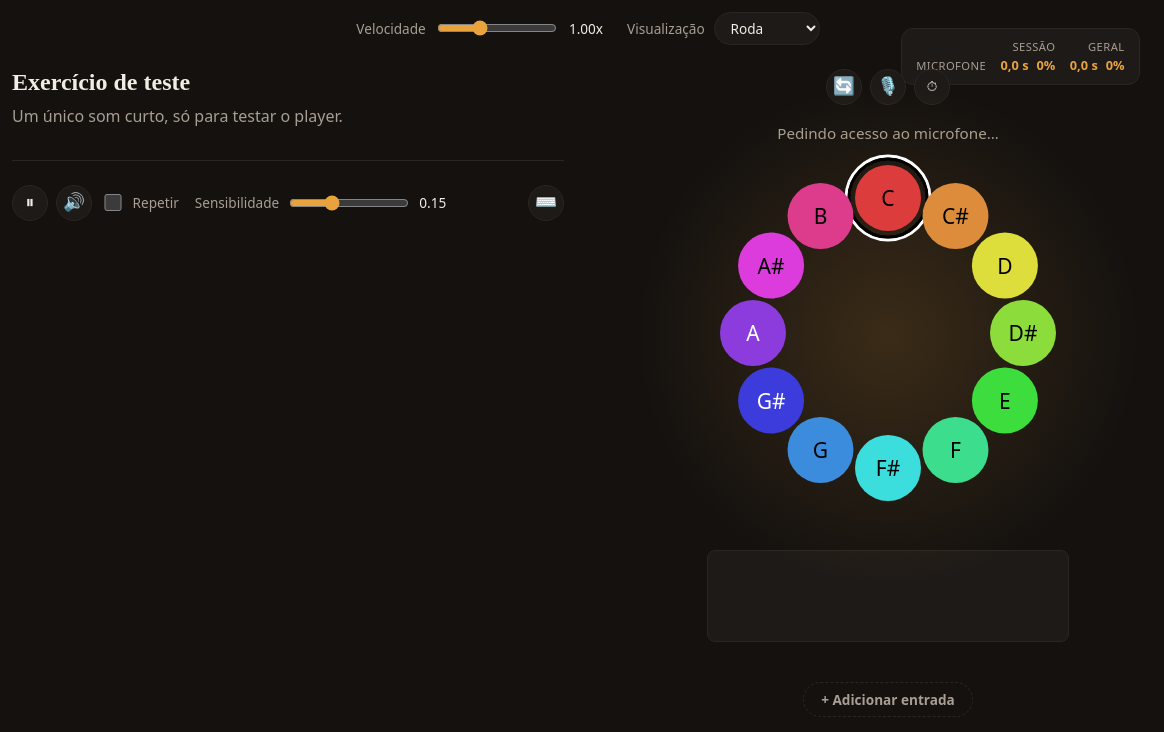
Test: ExercisePlayer keyboard shortcuts › turns the microphone off and on with M and with the mic button
Step 1. Press m
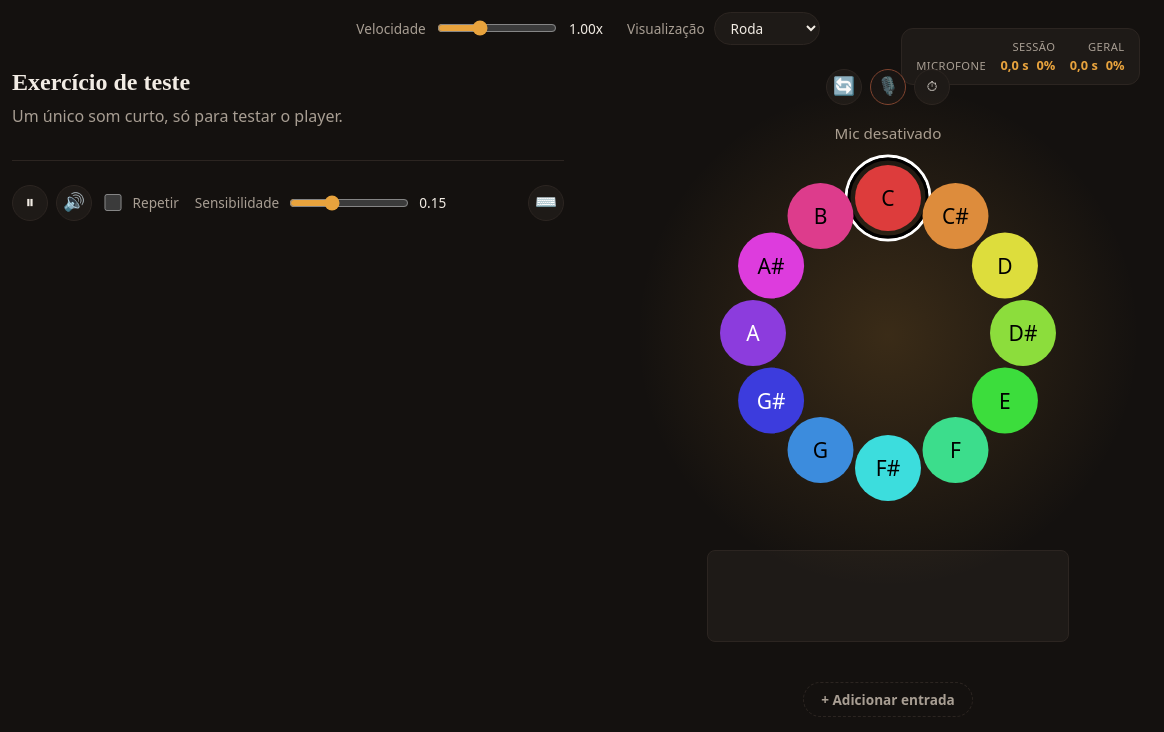
Now the text "Mic desativado" is shown, box [835,123,941,143]
Step 2. Click the button named "Ligar microfone" → [888, 87], box [870,69,906,105]
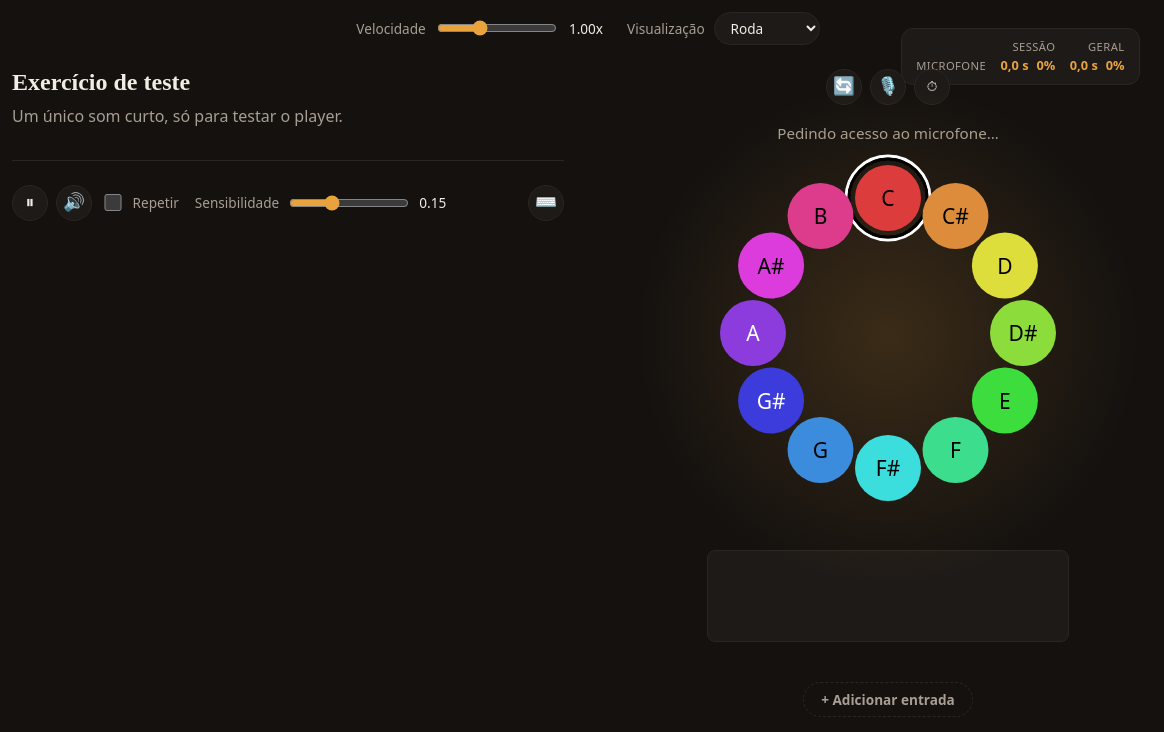
Now the button named "Desligar microfone" is shown, box [870,69,906,105]
Now the text "Mic desativado" is gone
